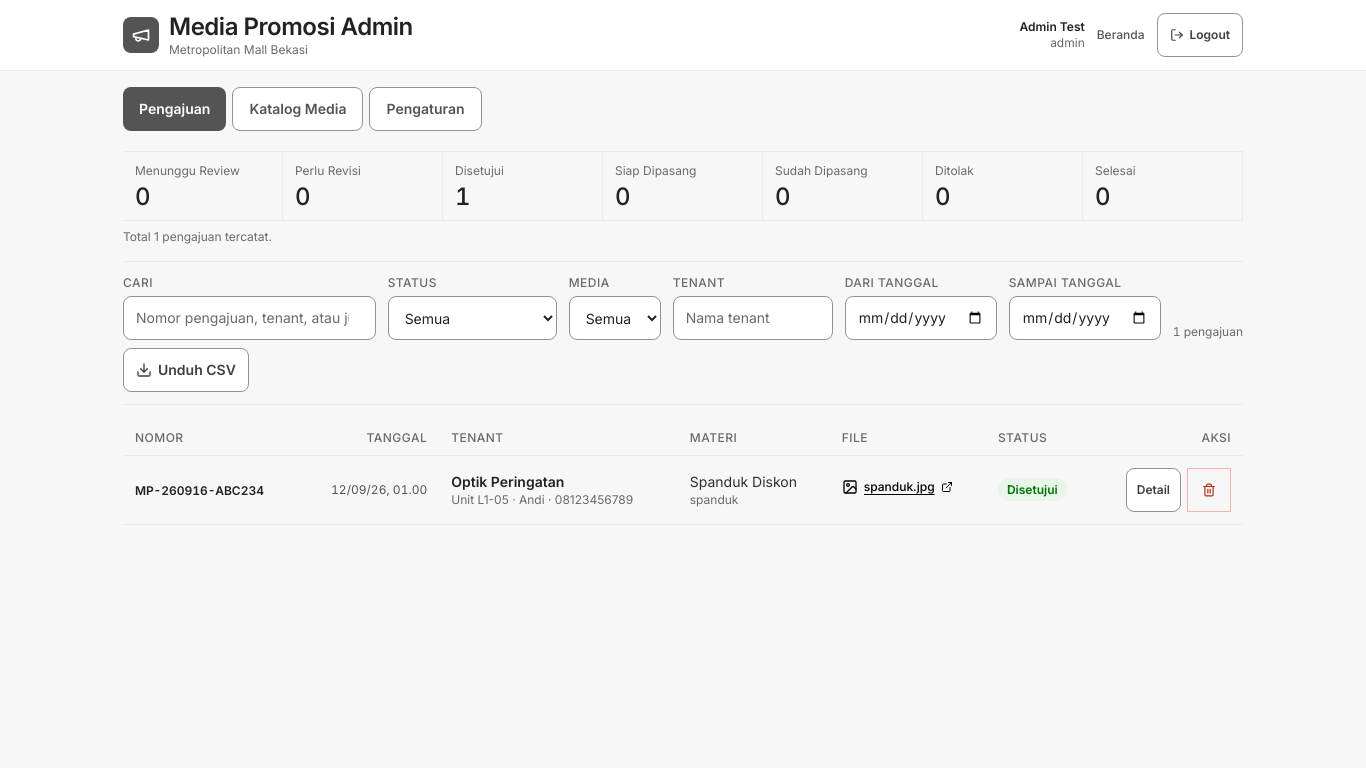
AdminDashboardPage - konfirmasi materi belum diterima (opsi B) › source_type upload: TIDAK ada konfirmasi tambahan (materi sudah ada)
Later steps or results of the test are not shown.
Expected: the text "Optik Peringatan" is shown, [451,472,564,490]
Click the button "Detail". click: (1153, 490)
box: [1126,468,1181,512]
(page scrolled)
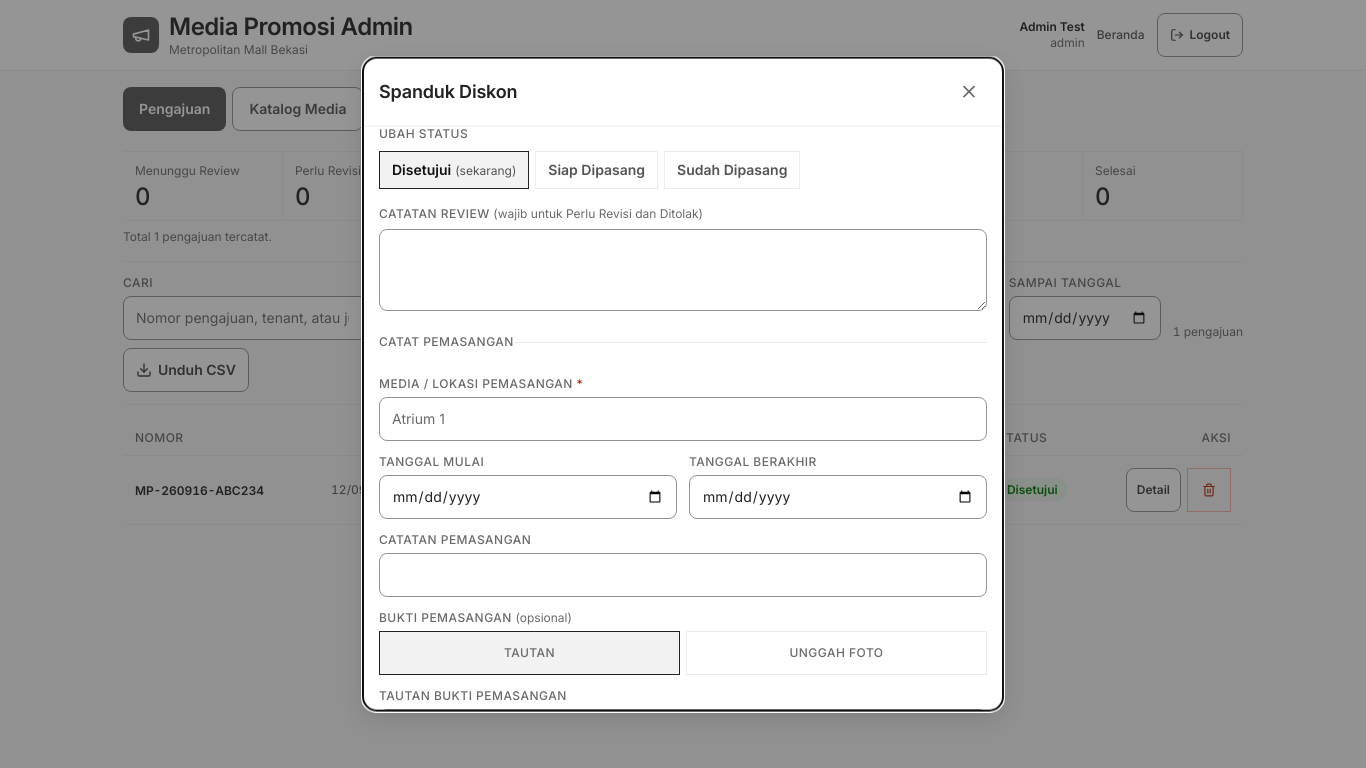
Now the dialog is shown, box [363,58,1003,710]
